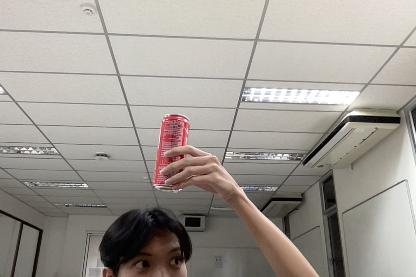Can: (153, 113, 191, 195)
